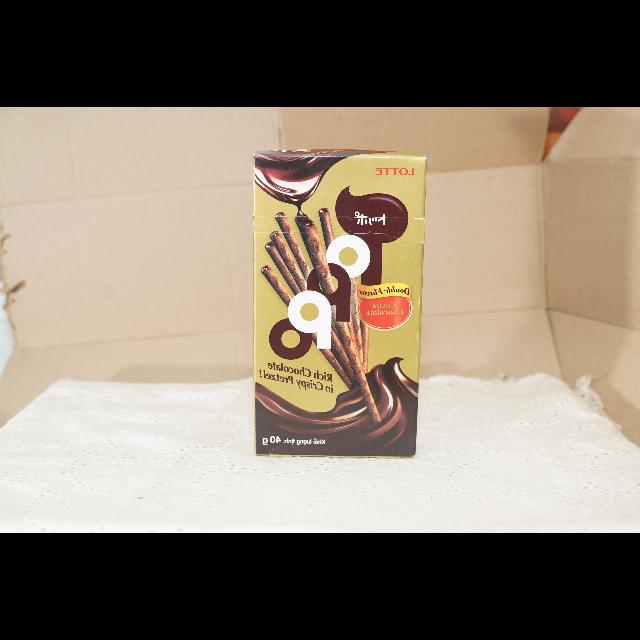banh_toppo_socola: (253, 150, 426, 458)
